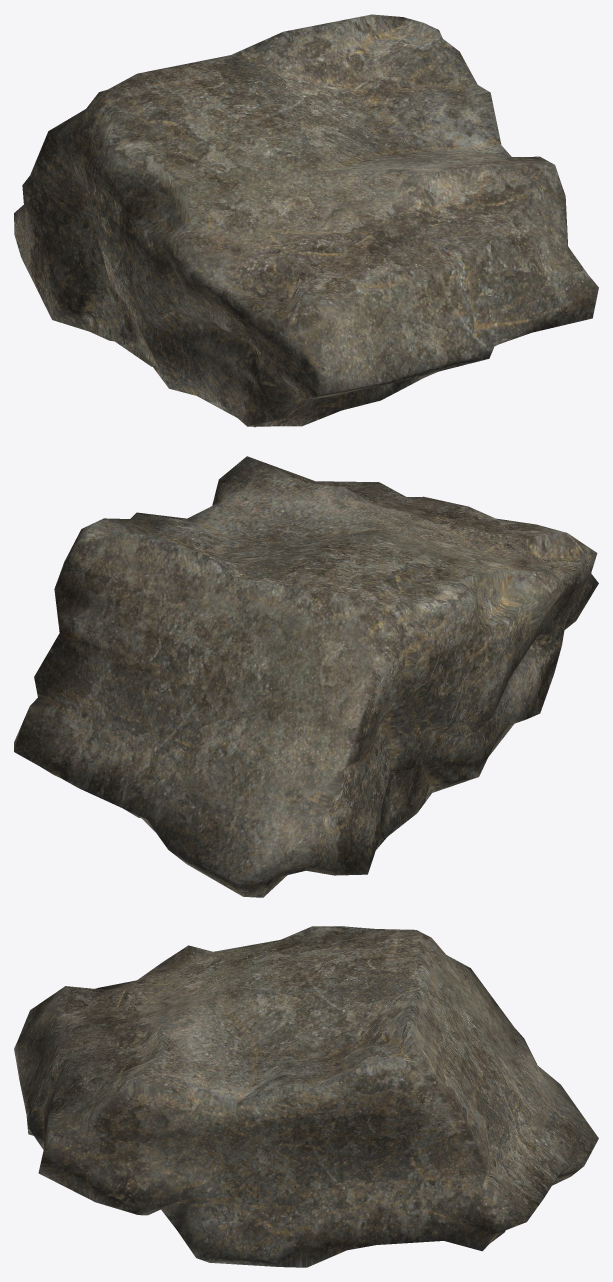
Rendered from Rock_7.fbx.
The picture shows the model from 3 angles, top to bottom: view 1: azimuth 30°, elevation 25°; view 2: azimuth 150°, elevation 25°; view 3: azimuth 270°, elevation 25°; orthographic projection. The views are drawn at different scales.
Parts seen in each view (by area): view 1: Rock_7; view 2: Rock_7; view 3: Rock_7.
Part boxes in pixels (bbox=[...]): Rock_7: bbox=[14, 14, 598, 427]; Rock_7: bbox=[14, 456, 598, 897]; Rock_7: bbox=[14, 926, 598, 1267].
Size of the model in its own units: 403 by 268 by 599.
1 material, 1 textured.
